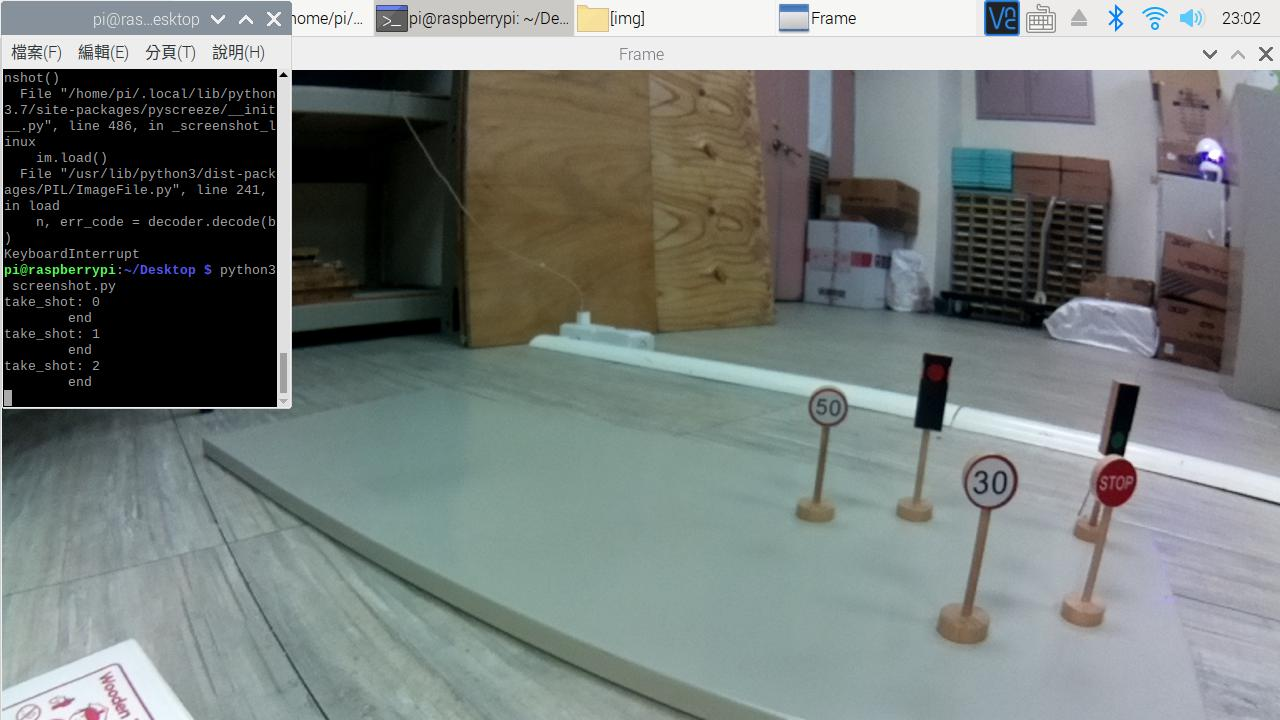Green: (1115, 379, 1128, 456)
Red: (922, 355, 948, 434)
Speed30: (966, 456, 1020, 512)
Speed50: (809, 383, 848, 429)
Stop: (1097, 464, 1140, 505)
